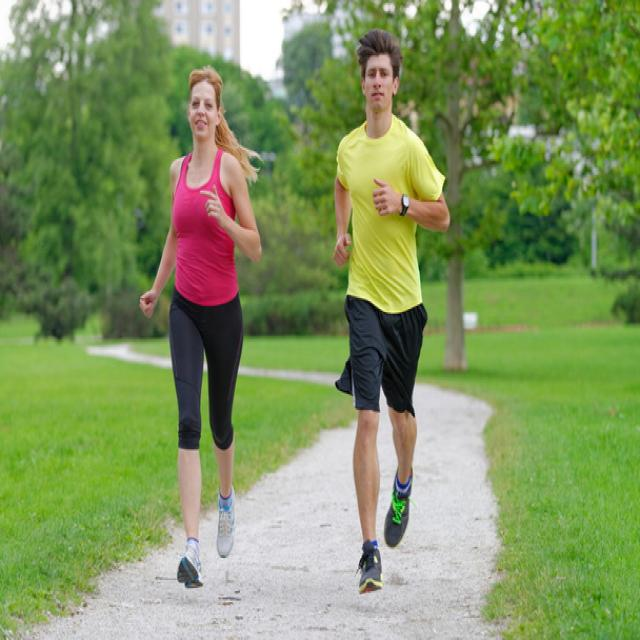Person: (334, 31, 449, 592), (140, 69, 262, 588)
